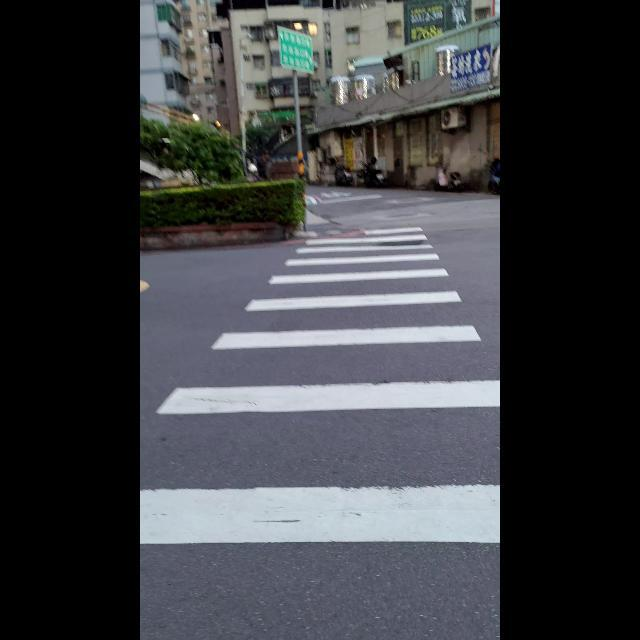sidewalk: (140, 221, 500, 553)
